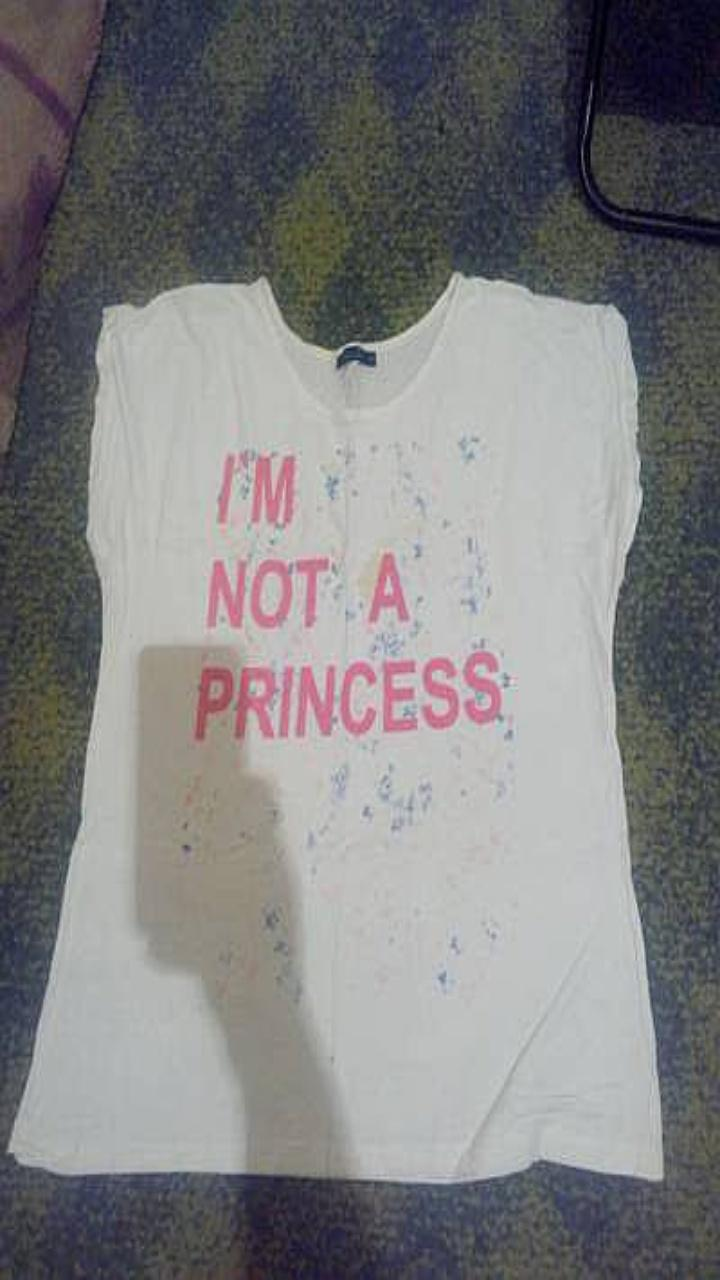T-Shirt: (10, 272, 662, 1181)
